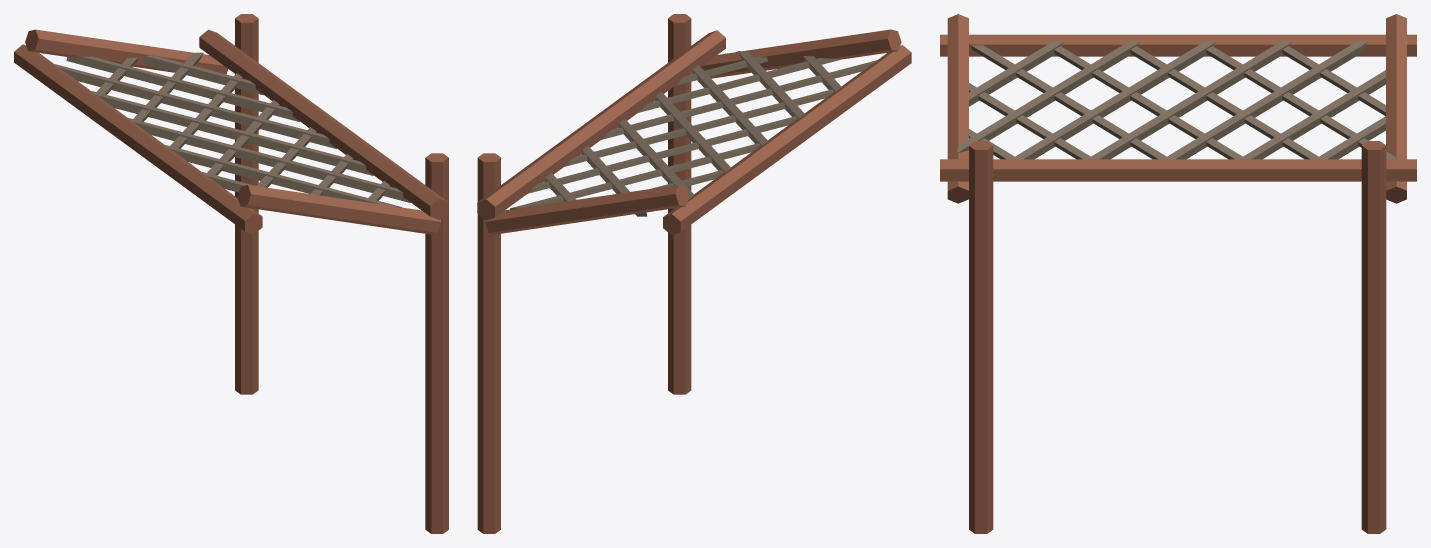
File: Awning A.fbx
The picture shows the model from 3 angles, left to right: view 1: azimuth 30°, elevation 25°; view 2: azimuth 150°, elevation 25°; view 3: azimuth 270°, elevation 25°; orthographic projection. The views are drawn at different scales.
Visible parts, largest first — view 1: Awning A; view 2: Awning A; view 3: Awning A.
Boxes of the visible parts, x1=… form: Awning A: x1=14, y1=14, x2=448, y2=533; Awning A: x1=477, y1=14, x2=911, y2=533; Awning A: x1=940, y1=14, x2=1416, y2=533.
Bounding box in the file's own units: 192 × 334 × 348.
